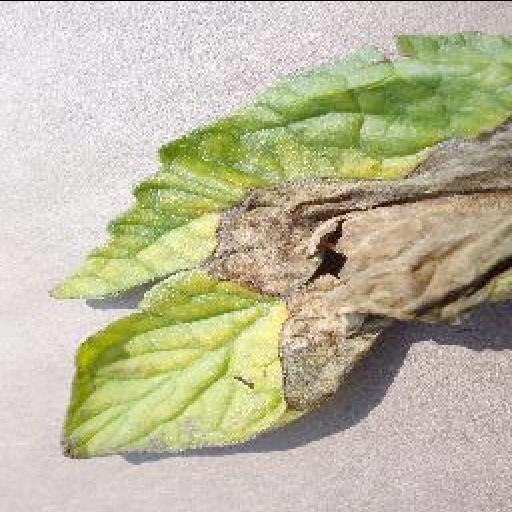disease_tomato: (46, 28, 512, 458)
